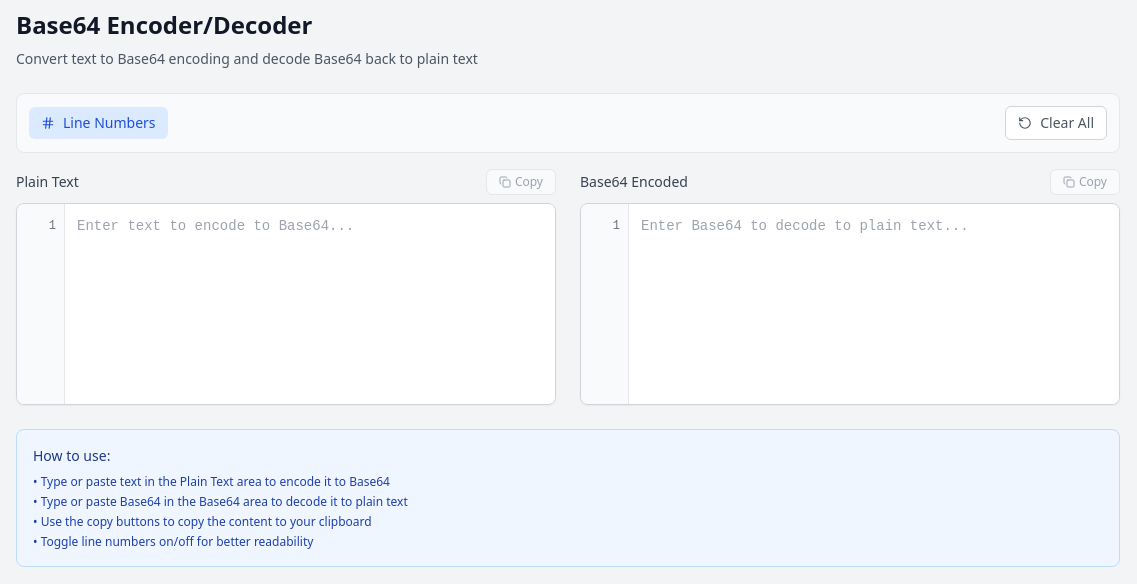
Scenario: Base64SideBySide › decodes Base64 to plain text
Type "aGVsbG8=" into the text box labelled "Base64 Encoded" at (874, 304), box [629,204,1119,404]
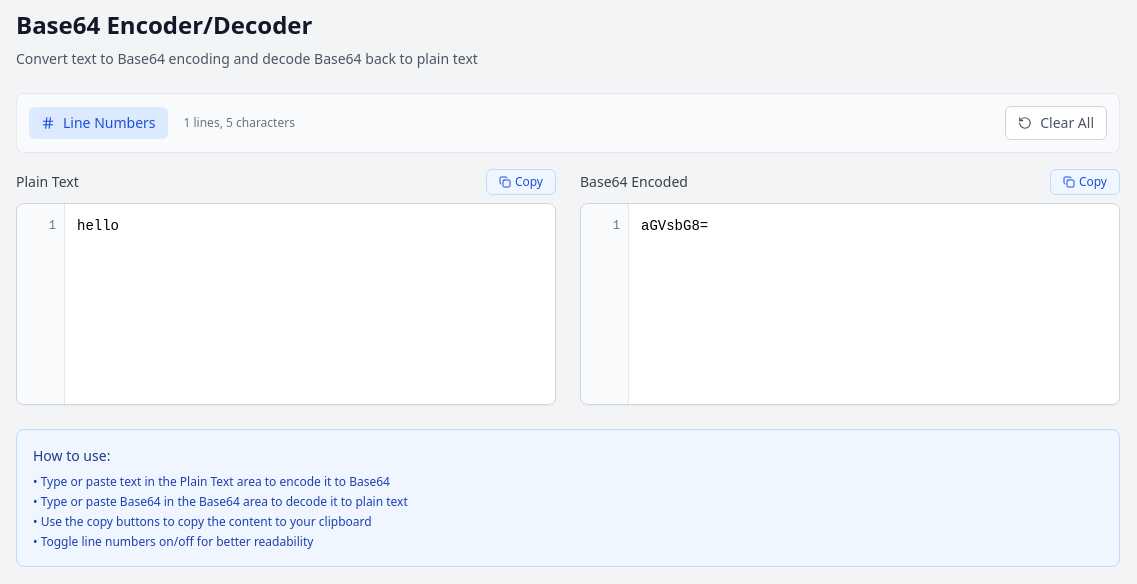
Expected: the text box labelled "Plain Text" holds "hello", [65,204,555,404]
